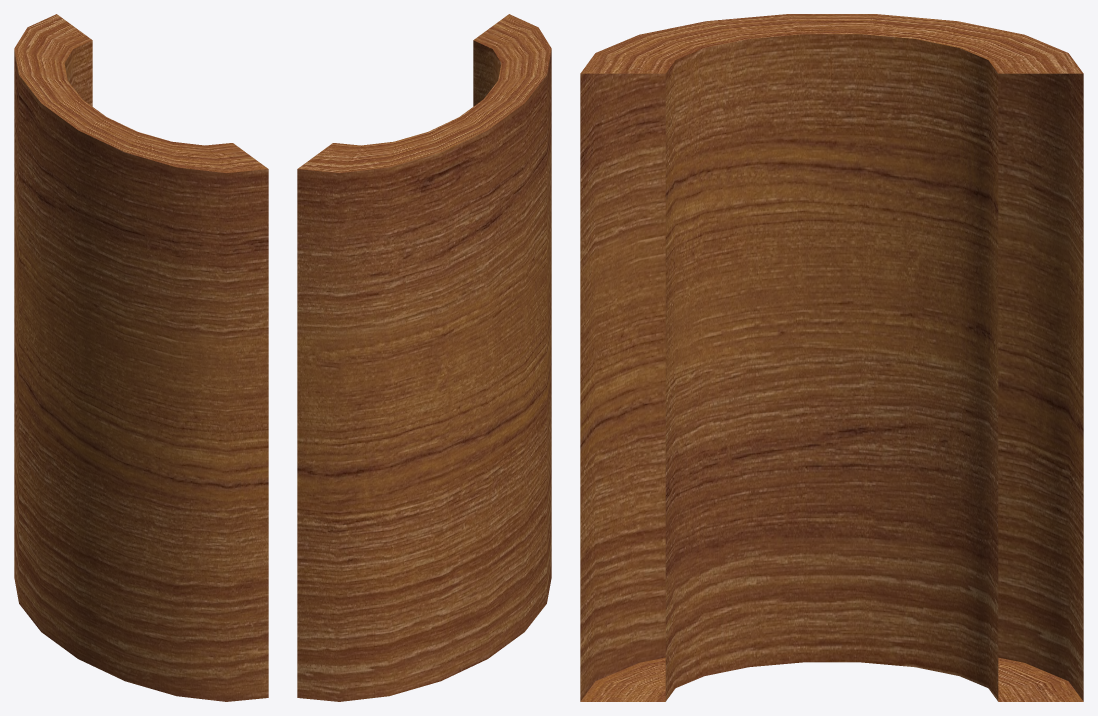
The model's file is qiudao.FBX.
3 renders of one model, left to right at view 1: azimuth 30°, elevation 25°; view 2: azimuth 150°, elevation 25°; view 3: azimuth 270°, elevation 25°, orthographic. The views are drawn at different scales.
Visible parts, largest first — view 1: Tube01; view 2: Tube01; view 3: Tube01.
Boxes of the visible parts, bbox=[...] form: Tube01: bbox=[14, 14, 268, 701]; Tube01: bbox=[297, 14, 551, 701]; Tube01: bbox=[580, 14, 1083, 701].
Size of the model in its own units: 13.51 by 66.17 by 48.07.
Materials: 1 (1 with a texture image).
